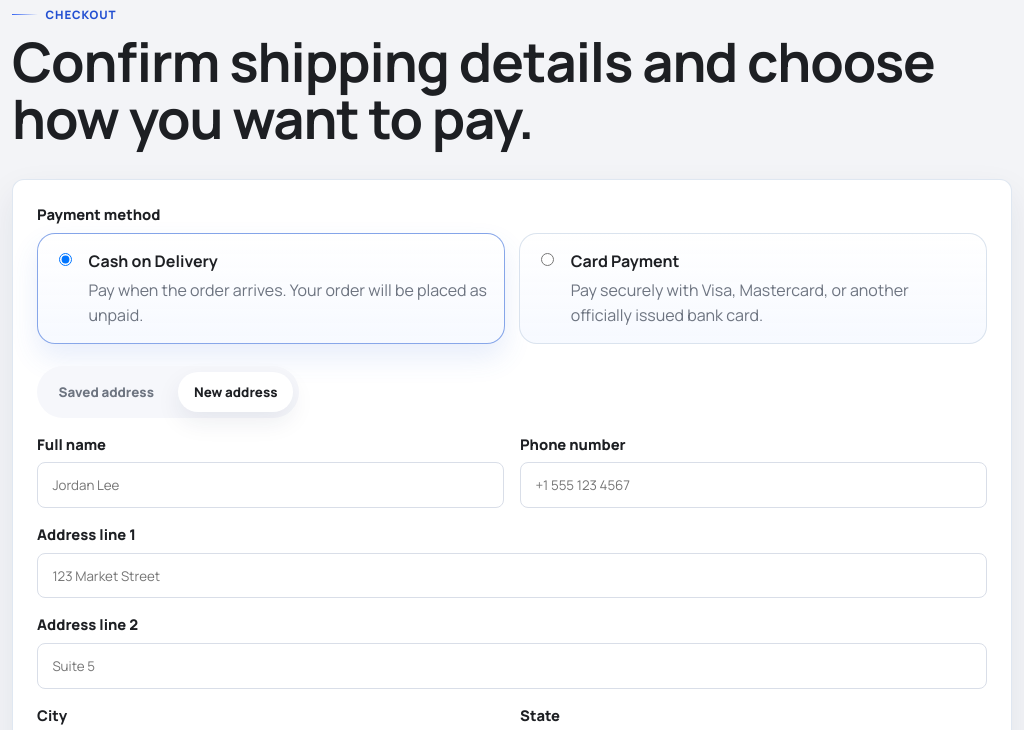
Test case: shows required field validation for COD with a new address
Click the button "New address" at (236, 392), box x1=178 y1=372 x2=293 y2=412
(page scrolled)
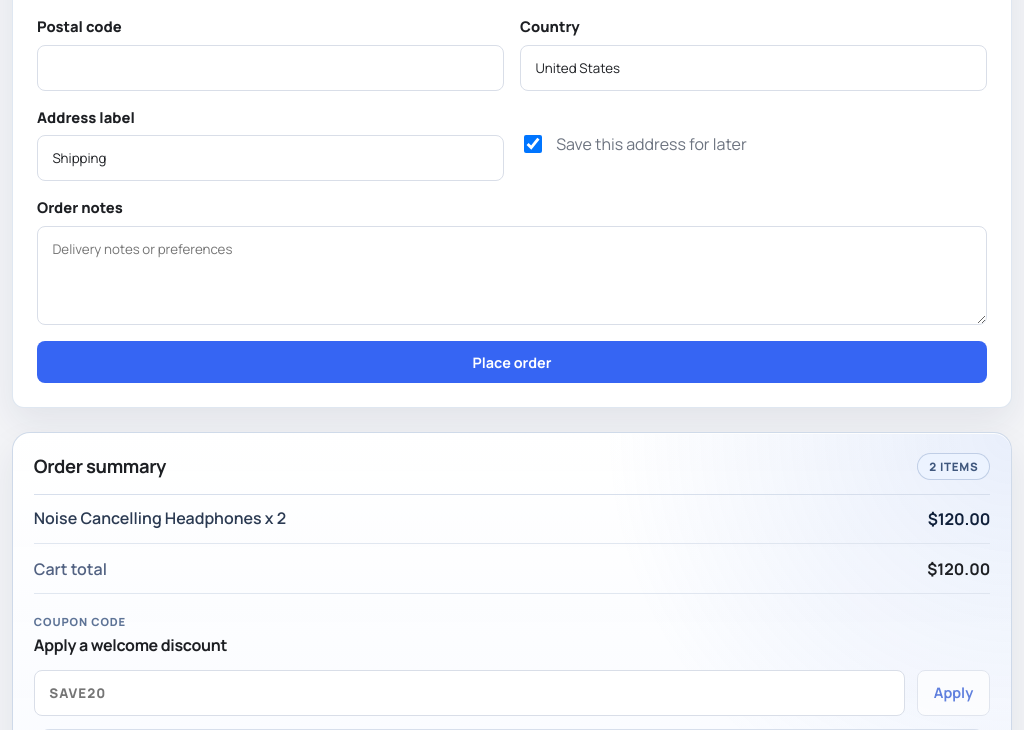
Click the button "Place order" at (512, 362), box x1=37 y1=341 x2=987 y2=383
(page scrolled)
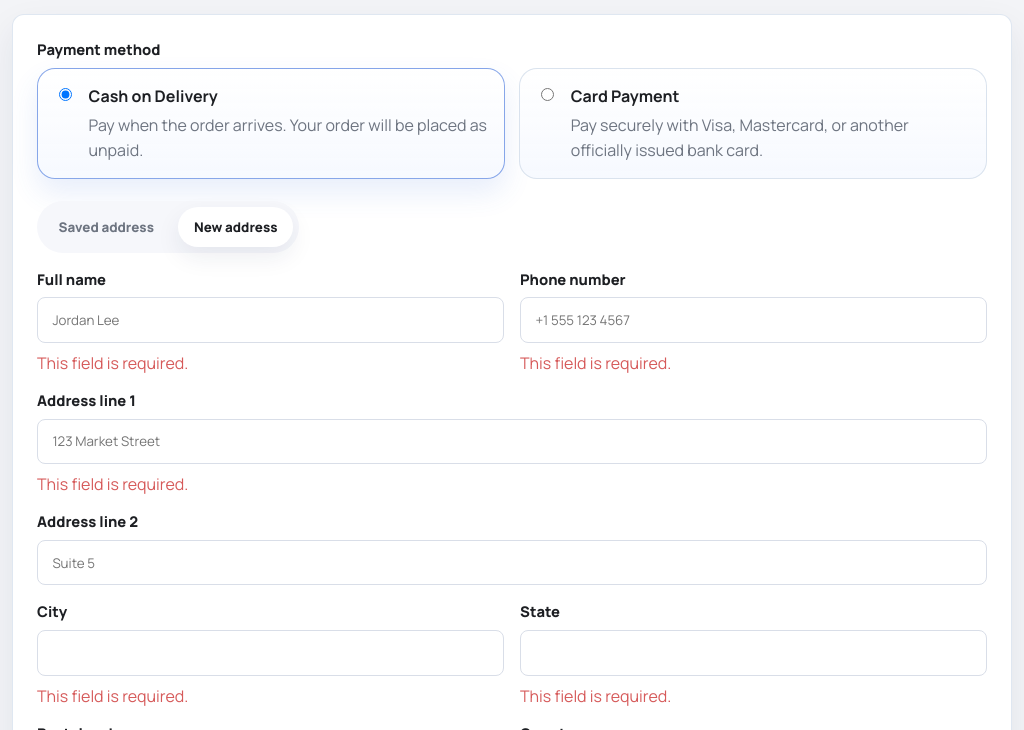
Expected: the text "This field is required." is shown 6 times
